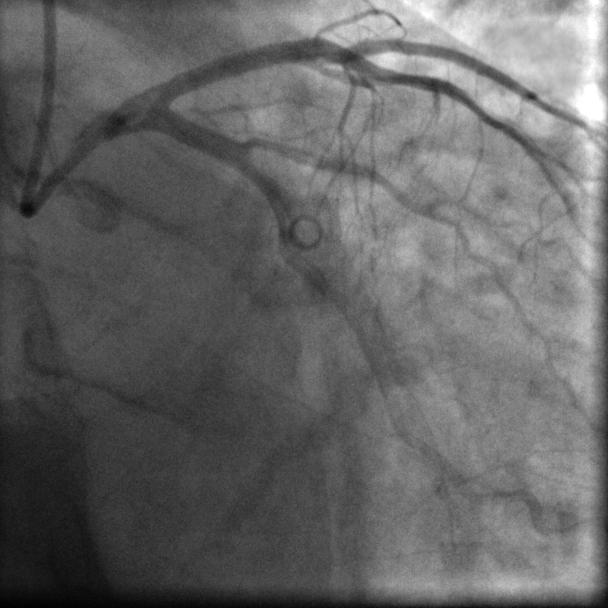Stenosis: (239, 128, 272, 158)
